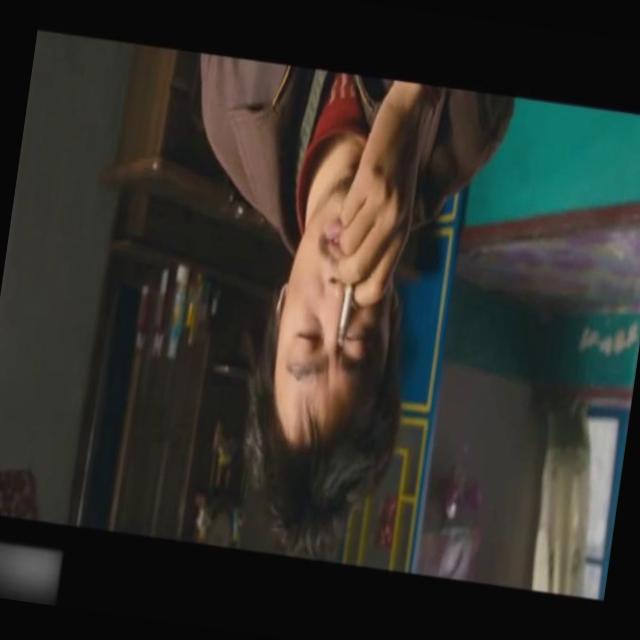cigarette: (328, 274, 360, 353)
